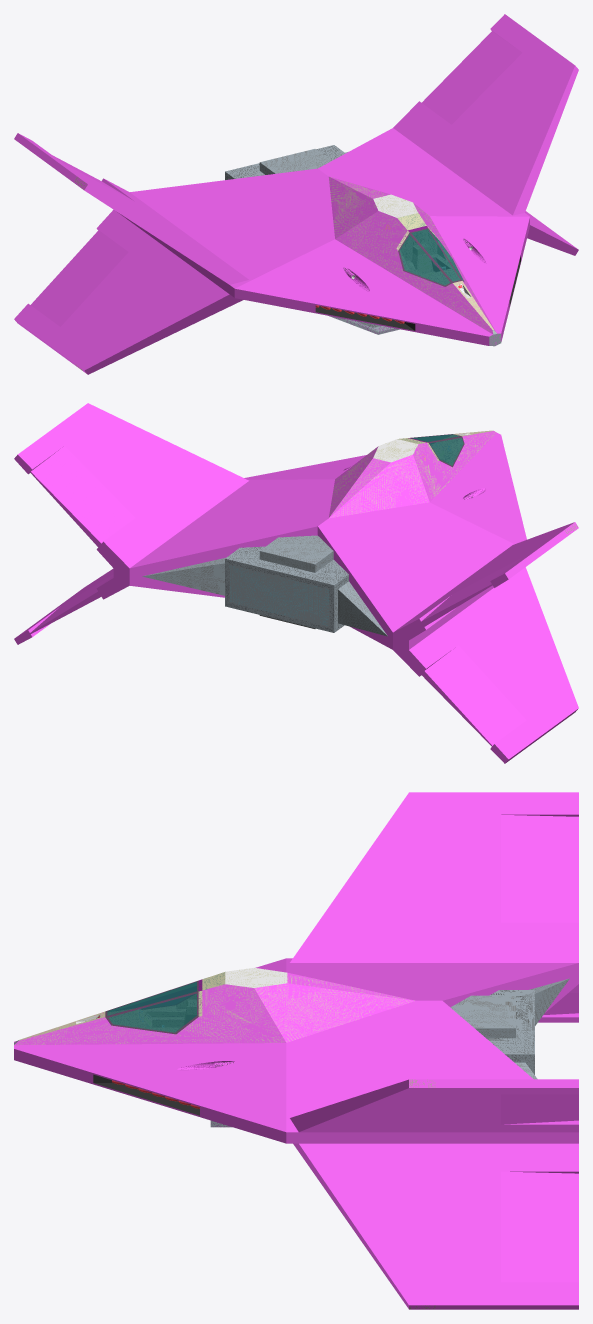
File: Ship3.fbx
The picture shows the model from 3 angles, top to bottom: view 1: azimuth 30°, elevation 25°; view 2: azimuth 150°, elevation 25°; view 3: azimuth 270°, elevation 25°; orthographic projection. The views are drawn at different scales.
Visible parts, largest first — view 1: Model, ntitled_11_1; view 2: Model, ntitled_11_1; view 3: Model, ntitled_11_1.
Boxes of the visible parts, <box> form: Model: <box>14,14,578,374</box>; ntitled_11_1: <box>396,226,464,286</box>; Model: <box>14,403,578,763</box>; ntitled_11_1: <box>408,434,464,467</box>; Model: <box>14,792,578,1309</box>; ntitled_11_1: <box>105,979,202,1034</box>.
Size of the model in its own units: 518 by 191 by 424.
